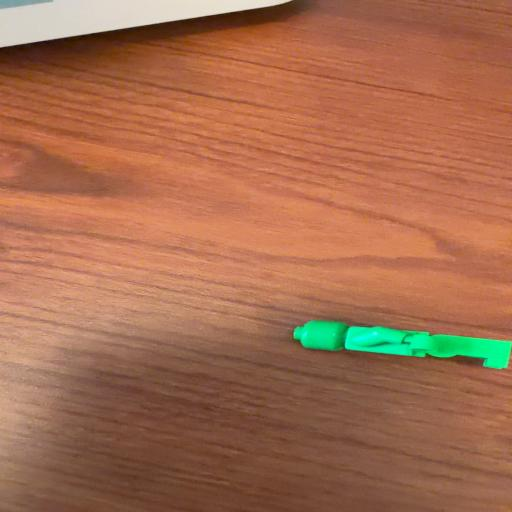UnoQ-minifig-detector: (294, 321, 512, 369)
